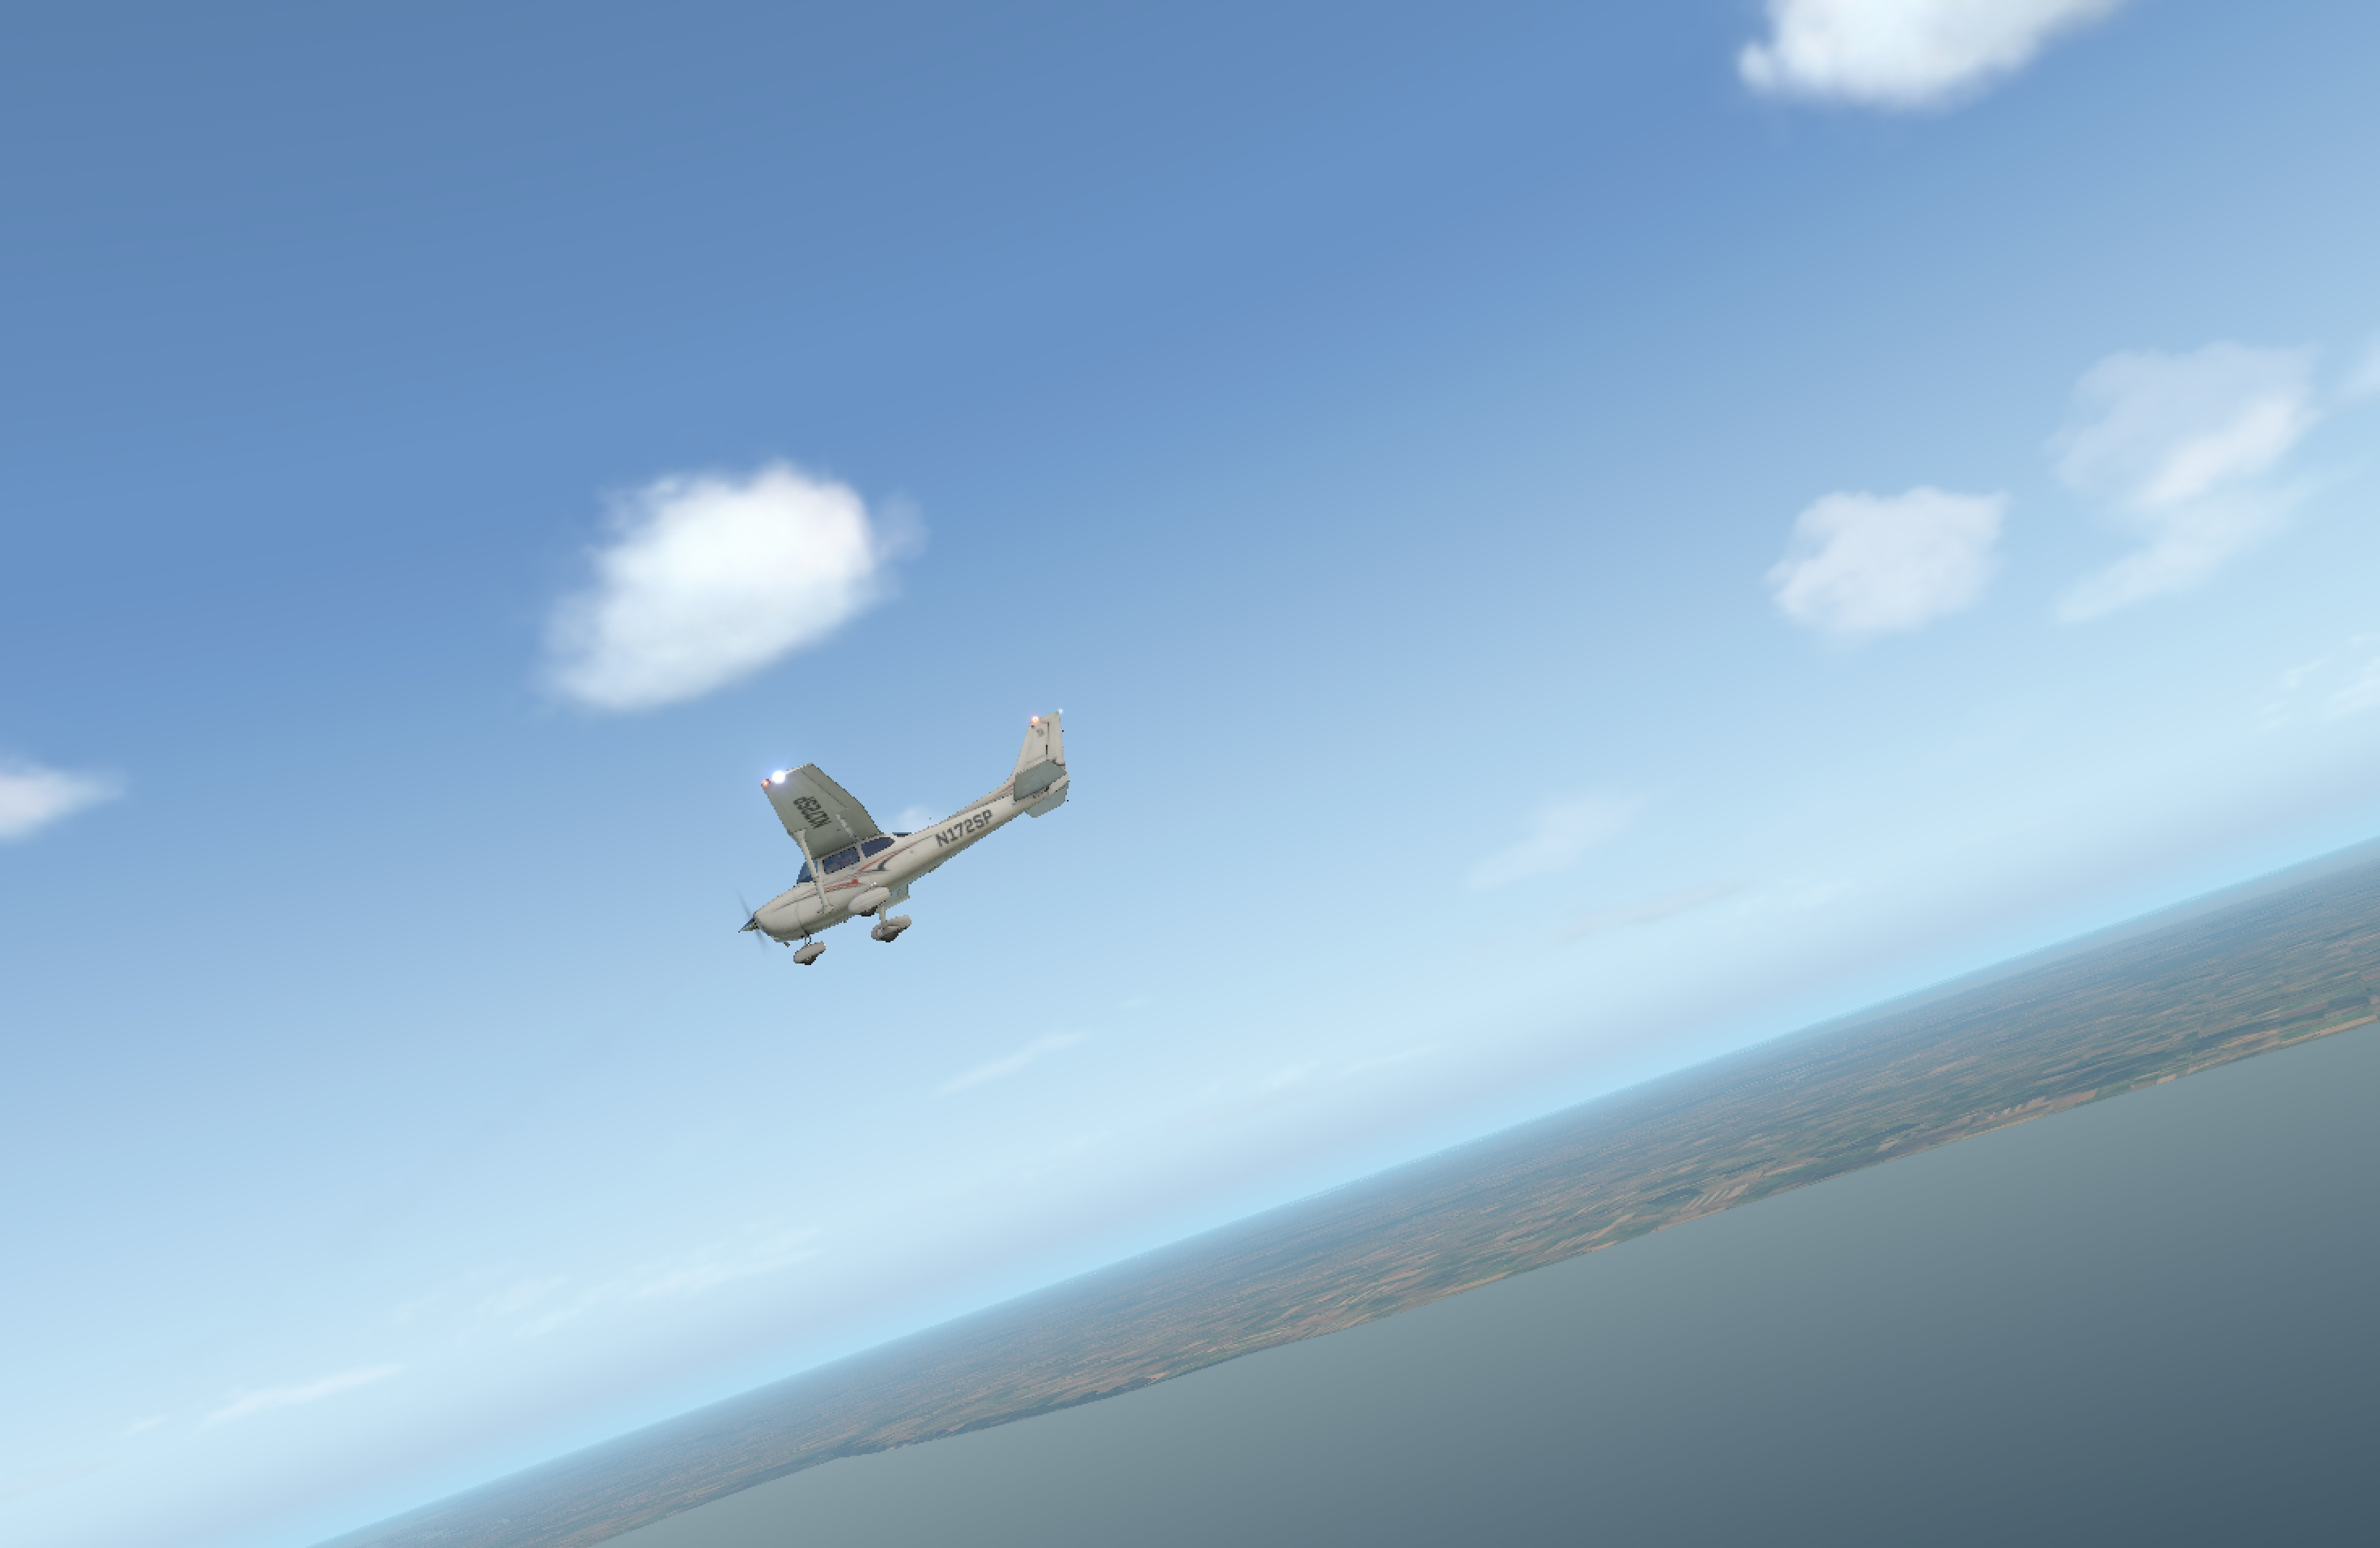aircraft: (665, 812, 1023, 946)
